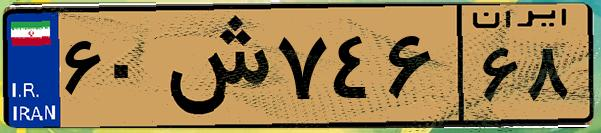0: (110, 28, 158, 98)
4: (330, 28, 385, 110)
6: (385, 28, 445, 110), (57, 26, 110, 100), (475, 38, 525, 113)
7: (270, 28, 330, 110)
8: (525, 38, 570, 115)
ش: (158, 12, 270, 120)
